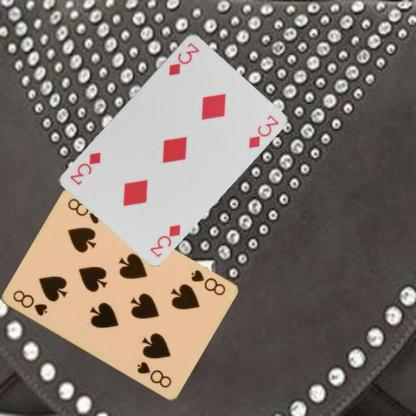3d: (166, 39, 201, 77), (147, 221, 182, 258)
8s: (10, 287, 48, 318), (188, 267, 226, 297)
